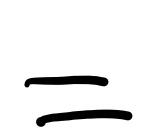eqv: (21, 74, 135, 128)
